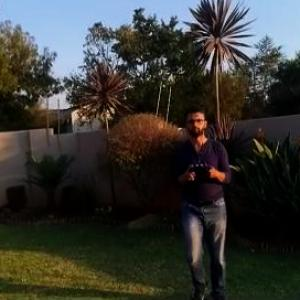follow: (172, 100, 236, 299)
